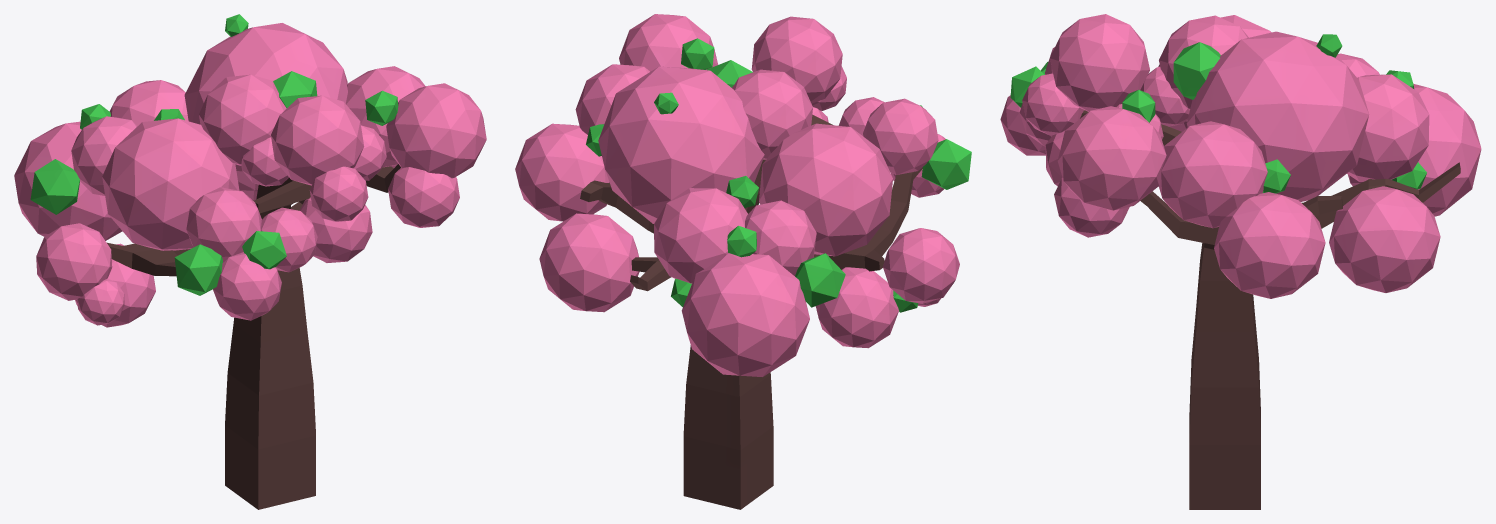
Rendered from arbol_rosa.fbx.
3 renders of one model, left to right at view 1: azimuth 30°, elevation 25°; view 2: azimuth 150°, elevation 25°; view 3: azimuth 270°, elevation 25°, orthographic. The views are drawn at different scales.
Visible parts, largest first — view 1: Cube; view 2: Cube; view 3: Cube.
Part boxes in pixels (bbox=[...]): Cube: bbox=[14, 14, 486, 509]; Cube: bbox=[515, 14, 971, 509]; Cube: bbox=[1000, 14, 1481, 509].
Bounding box in the file's own units: 1444 × 1445 × 1342.
